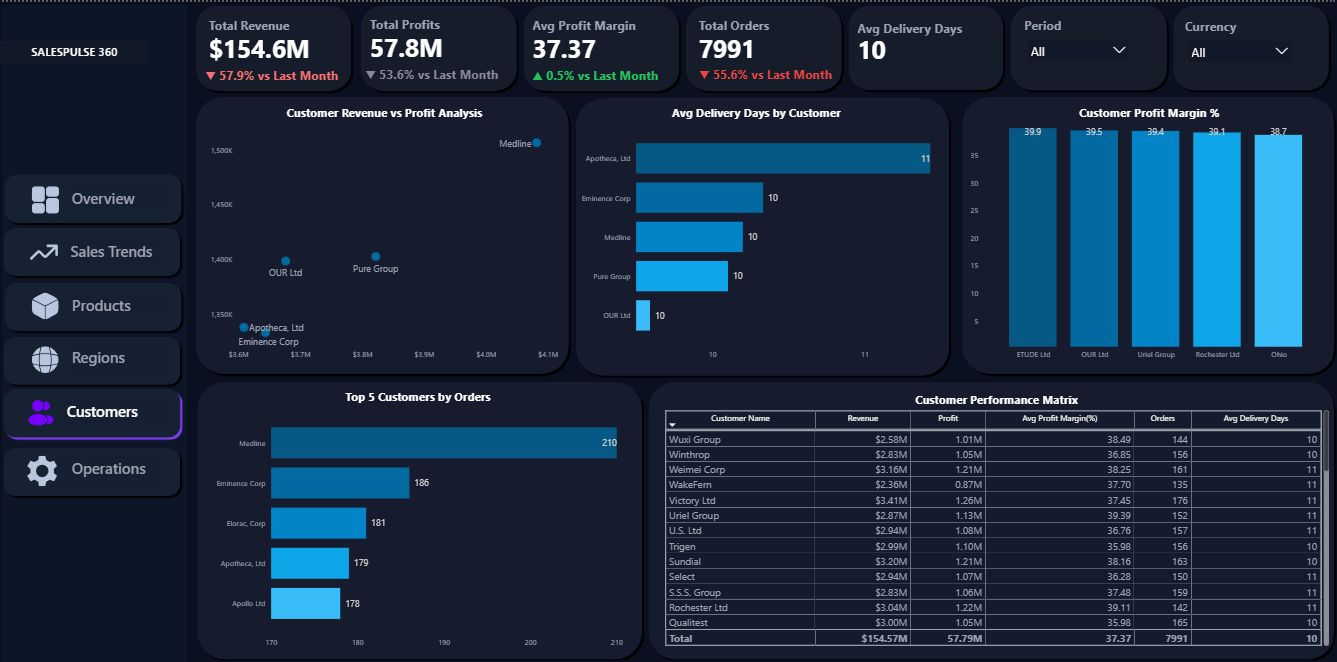

This screenshot's page, from the dashboard's own definition file:
{"tool":"powerbi","page":{"name":"Customers","canvas":[2185,1080],"ordinal":4},"visuals":[{"type":"shape","box":[315.4,614.6,737.9,465],"z":0},{"type":"shape","box":[1564.7,149.9,620.7,464],"z":1000},{"type":"shape","box":[1380,0,264,150],"z":2000},{"type":"shape","box":[313.9,149.9,620,464],"z":3000},{"type":"shape","box":[583.1,0,265.7,150.8],"z":4000},{"type":"shape","box":[315.2,0,265,150.8],"z":5000},{"type":"shape","box":[848.7,0,265.7,150.8],"z":6000},{"type":"advanceCardE03760C5AB684758B56AA29F9E6C257B","title":"Avg Profit Margin","fields":{"mainMeasure":["CALENDAR_TABLE.Avg Profit Margin"]},"box":[869,24.8,186,76],"z":7000},{"type":"shape","box":[1114.4,0,265.7,150.8],"z":8000},{"type":"shape","box":[0,0,311.3,1101.8],"z":9000},{"type":"shape","box":[2,274.9,300,91],"z":10000},{"type":"textbox","box":[112.8,300.9,166.6,47.3],"z":11000},{"type":"shape","box":[0.1,363.5,300,90],"z":12000},{"type":"shape","box":[1,453.2,300,90.1],"z":13000},{"type":"shape","box":[0,540.6,300,90],"z":14000},{"type":"shape","box":[-1,627.3,300,90.1],"z":15000},{"type":"shape","box":[0,722.5,300,90],"z":16000},{"type":"textbox","box":[111.4,473.4,166.6,42.8],"z":17000},{"type":"textbox","box":[111.4,559.3,166.6,49.5],"z":18000},{"type":"textbox","box":[104.8,647.6,171.1,49.5],"z":19000},{"type":"textbox","box":[91.8,739.9,171.1,54],"z":20000},{"type":"image","box":[48.5,297.2,50.5,50.5],"z":21000},{"type":"image","box":[47.2,384.5,49.5,49.5],"z":22000},{"type":"image","box":[48.3,471.6,49.5,49.5],"z":23000},{"type":"image","box":[48.4,559.3,49.5,49.5],"z":24000},{"type":"image","box":[41.8,647.6,54,49.5],"z":25000},{"type":"image","box":[40.1,739.9,56.3,49.5],"z":26000},{"type":"textbox","box":[110.3,386.3,153.1,45],"z":27000},{"type":"textbox","box":[246.2,132.5,66.2,33.8],"z":28000},{"type":"advanceCardE03760C5AB684758B56AA29F9E6C257B","title":"Total Orders","fields":{"mainMeasure":["CALENDAR_TABLE.Total Orders"]},"box":[1140,24,186,76],"z":29000},{"type":"advanceCardE03760C5AB684758B56AA29F9E6C257B","title":"Total Profits","fields":{"mainMeasure":["CALENDAR_TABLE.Total Profit"]},"box":[603.3,22.5,186.9,76.5],"z":30000},{"type":"advanceCardE03760C5AB684758B56AA29F9E6C257B","title":"Avg Delivery Days","fields":{"mainMeasure":["CALENDAR_TABLE.Avg Delivery Days"]},"box":[1400,28,226,72],"z":31000},{"type":"shape","box":[934,151.6,620.6,465],"z":32000},{"type":"scatterChart","title":"Customer Revenue vs Profit Analysis","fields":{"Category":["SALES_ANALYTICS_MASTER.CUSTOMER_NAME"],"X":["CALENDAR_TABLE.Total Revenue"],"Y":["CALENDAR_TABLE.Total Profit"]},"box":[339.6,167.8,578.2,440.7],"z":33000},{"type":"shape","box":[1053.3,614.6,1132.1,465],"z":34000},{"type":"tableEx","title":"Customer Performance Matrix","fields":{"Values":["SALES_ANALYTICS_MASTER.CUSTOMER_NAME","CALENDAR_TABLE.Total Revenue","CALENDAR_TABLE.Total Profit","CALENDAR_TABLE.Avg Profit Margin","CALENDAR_TABLE.Total Orders","CALENDAR_TABLE.Avg Delivery Days"]},"box":[1079.6,626.7,1095.7,444.8],"z":35000},{"type":"clusteredColumnChart","title":"Customer Profit Margin %","fields":{"Category":["SALES_ANALYTICS_MASTER.CUSTOMER_NAME"],"Y":["CALENDAR_TABLE.Avg Profit Margin"]},"box":[1578.9,167.8,594.4,440.7],"z":36000},{"type":"clusteredBarChart","title":"Avg Delivery Days by Customer","fields":{"Category":["SALES_ANALYTICS_MASTER.CUSTOMER_NAME"],"Y":["CALENDAR_TABLE.Avg Delivery Days"]},"box":[938,167.8,592.3,440.7],"z":37000},{"type":"advanceCardE03760C5AB684758B56AA29F9E6C257B","title":"Total Revenue","fields":{"mainMeasure":["CALENDAR_TABLE.Total Revenue"]},"box":[339.9,24.8,186.9,76.5],"z":38000},{"type":"card","fields":{"Values":["CALENDAR_TABLE.Revenue Trend Label"]},"box":[310.7,101.3,267.9,40.5],"z":39000},{"type":"card","fields":{"Values":["CALENDAR_TABLE.Profit Trend Label"]},"box":[571.8,99.1,267.9,40.5],"z":40000},{"type":"card","fields":{"Values":["CALENDAR_TABLE.Orders Trend Label"]},"box":[1116,100,268,40],"z":41000},{"type":"card","fields":{"Values":["CALENDAR_TABLE.Profit Margin Trend Label"]},"box":[839.7,101.3,267,40],"z":42000},{"type":"shape","box":[1644,0,266,150],"z":43000},{"type":"slicer","title":"Period","fields":{"Values":["CALENDAR_TABLE.YEAR","CALENDAR_TABLE.MONTH_NAME"]},"box":[1668,24,186,76],"z":44000},{"type":"clusteredBarChart","title":"Top 5  Customers by Orders","fields":{"Category":["SALES_ANALYTICS_MASTER.CUSTOMER_NAME"],"Y":["CALENDAR_TABLE.Total Orders"]},"box":[344.7,631.9,689.4,447.6],"z":45000},{"type":"shape","box":[1910,0,265,150],"z":46000},{"type":"slicer","title":"Currency","fields":{"Values":["SALES_ANALYTICS_MASTER.CURRENCY_CODE"]},"box":[1932.5,27.5,186,75],"z":47000},{"type":"pageNavigator","box":[0,278.3,300,85],"z":48000},{"type":"pageNavigator","box":[0,366.7,300,85],"z":49000},{"type":"pageNavigator","box":[0,451.7,300,85],"z":50000},{"type":"pageNavigator","box":[0,541.7,300,85],"z":51000},{"type":"pageNavigator","box":[0,628.3,300,85],"z":52000},{"type":"pageNavigator","box":[0,723.3,300,85],"z":53000},{"type":"image","box":[62.2,0,201.1,170],"z":54000},{"type":"textbox","box":[0,153.2,260.9,88.6],"z":55000},{"type":"textbox","box":[222.6,153.2,93.4,69.4],"z":56000}]}

Visuals, with their boxes on the page's 2185x1080 design canvas (x1, y1, x2, y2). These are canvas units, not pixel positions in the 1337x662 screenshot, which may show the page scaled, cropped or inside an application window:
shape: select_region(315, 615, 1053, 1080)
shape: select_region(1565, 150, 2185, 614)
shape: select_region(1380, 0, 1644, 150)
shape: select_region(314, 150, 934, 614)
shape: select_region(583, 0, 849, 151)
shape: select_region(315, 0, 580, 151)
shape: select_region(849, 0, 1114, 151)
"Avg Profit Margin" advanceCardE03760C5AB684758B56AA29F9E6C257B: select_region(869, 25, 1055, 101)
shape: select_region(1114, 0, 1380, 151)
shape: select_region(0, 0, 311, 1102)
shape: select_region(2, 275, 302, 366)
textbox: select_region(113, 301, 279, 348)
shape: select_region(0, 364, 300, 454)
shape: select_region(1, 453, 301, 543)
shape: select_region(0, 541, 300, 631)
shape: select_region(-1, 627, 299, 717)
shape: select_region(0, 722, 300, 812)
textbox: select_region(111, 473, 278, 516)
textbox: select_region(111, 559, 278, 609)
textbox: select_region(105, 648, 276, 697)
textbox: select_region(92, 740, 263, 794)
image: select_region(48, 297, 99, 348)
image: select_region(47, 384, 97, 434)
image: select_region(48, 472, 98, 521)
image: select_region(48, 559, 98, 609)
image: select_region(42, 648, 96, 697)
image: select_region(40, 740, 96, 789)
textbox: select_region(110, 386, 263, 431)
textbox: select_region(246, 132, 312, 166)
"Total Orders" advanceCardE03760C5AB684758B56AA29F9E6C257B: select_region(1140, 24, 1326, 100)
"Total Profits" advanceCardE03760C5AB684758B56AA29F9E6C257B: select_region(603, 22, 790, 99)
"Avg Delivery Days" advanceCardE03760C5AB684758B56AA29F9E6C257B: select_region(1400, 28, 1626, 100)
shape: select_region(934, 152, 1555, 617)
"Customer Revenue vs Profit Analysis" scatterChart: select_region(340, 168, 918, 608)
shape: select_region(1053, 615, 2185, 1080)
"Customer Performance Matrix" tableEx: select_region(1080, 627, 2175, 1072)
"Customer Profit Margin %" clusteredColumnChart: select_region(1579, 168, 2173, 608)
"Avg Delivery Days by Customer" clusteredBarChart: select_region(938, 168, 1530, 608)
"Total Revenue" advanceCardE03760C5AB684758B56AA29F9E6C257B: select_region(340, 25, 527, 101)
card - CALENDAR_TABLE.Revenue Trend Label: select_region(311, 101, 579, 142)
card - CALENDAR_TABLE.Profit Trend Label: select_region(572, 99, 840, 140)
card - CALENDAR_TABLE.Orders Trend Label: select_region(1116, 100, 1384, 140)
card - CALENDAR_TABLE.Profit Margin Trend Label: select_region(840, 101, 1107, 141)
shape: select_region(1644, 0, 1910, 150)
"Period" slicer: select_region(1668, 24, 1854, 100)
"Top 5  Customers by Orders" clusteredBarChart: select_region(345, 632, 1034, 1080)
shape: select_region(1910, 0, 2175, 150)
"Currency" slicer: select_region(1932, 28, 2118, 102)
pageNavigator: select_region(0, 278, 300, 363)
pageNavigator: select_region(0, 367, 300, 452)
pageNavigator: select_region(0, 452, 300, 537)
pageNavigator: select_region(0, 542, 300, 627)
pageNavigator: select_region(0, 628, 300, 713)
pageNavigator: select_region(0, 723, 300, 808)
image: select_region(62, 0, 263, 170)
textbox: select_region(0, 153, 261, 242)
textbox: select_region(223, 153, 316, 223)
